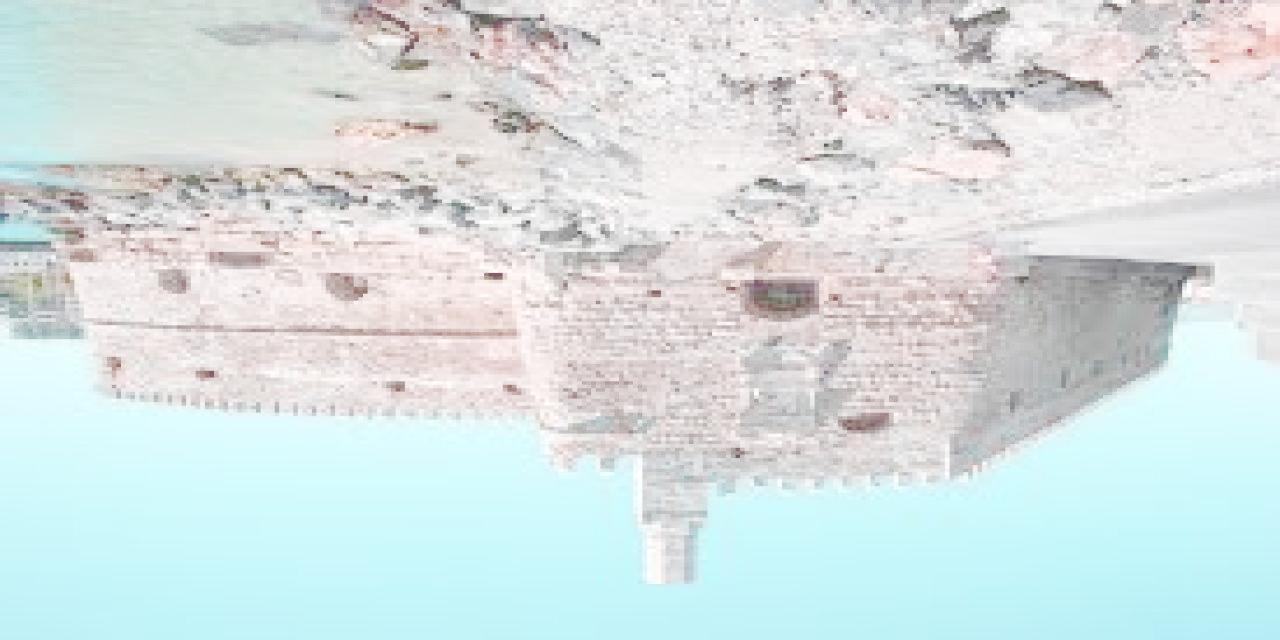Kules: (57, 243, 1201, 585)
